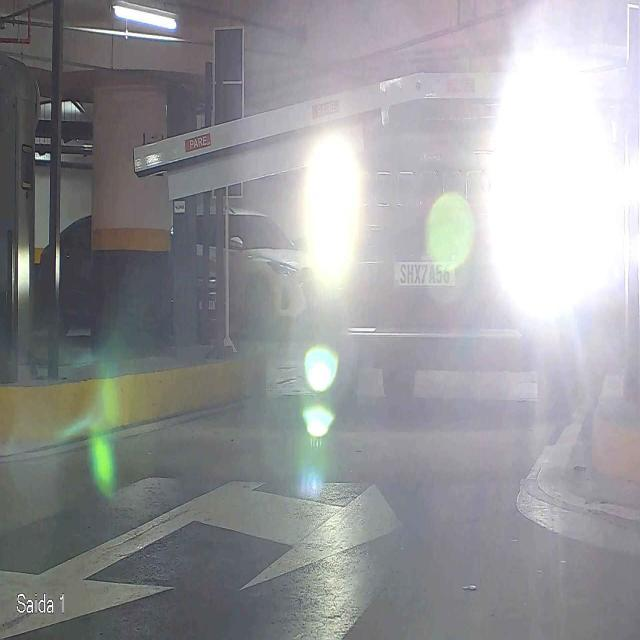mercosul_plate: (395, 255, 458, 288)
